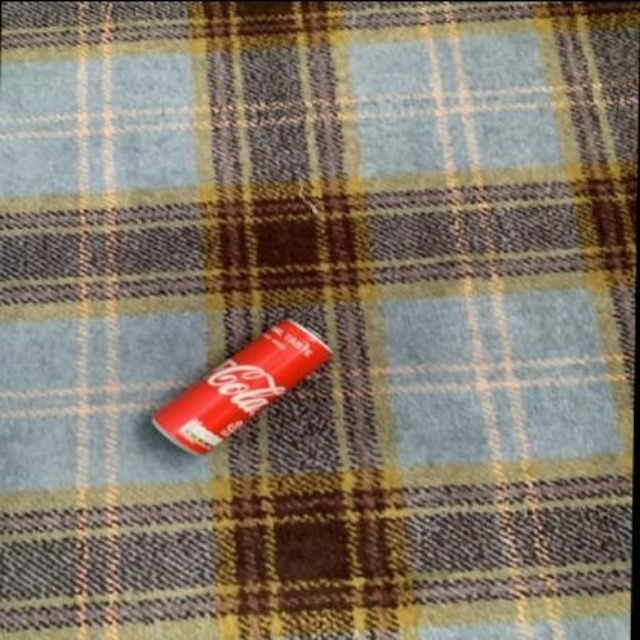trash: (152, 320, 331, 452)
